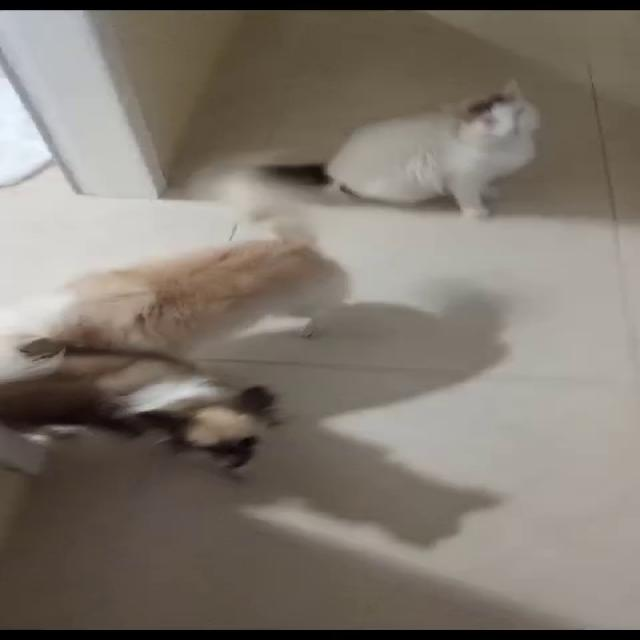Pedrita: (19, 318, 294, 489)
Simba: (296, 63, 594, 240)
Theo: (81, 182, 380, 359)
